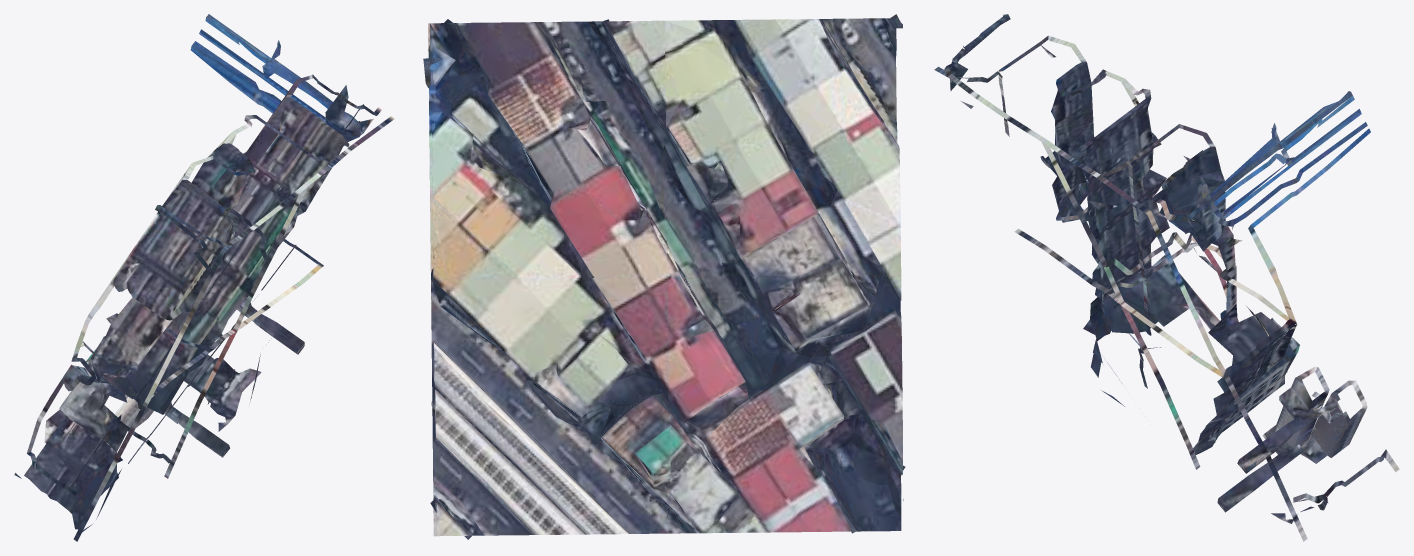
3 renders of one model, left to right at view 1: azimuth 30°, elevation 25°; view 2: azimuth 150°, elevation 25°; view 3: azimuth 270°, elevation 25°, orthographic. The views are drawn at different scales.
Size of the model in its own units: 83.18 by 83.8 by 79.65.
Materials: 2 (2 with a texture image).
